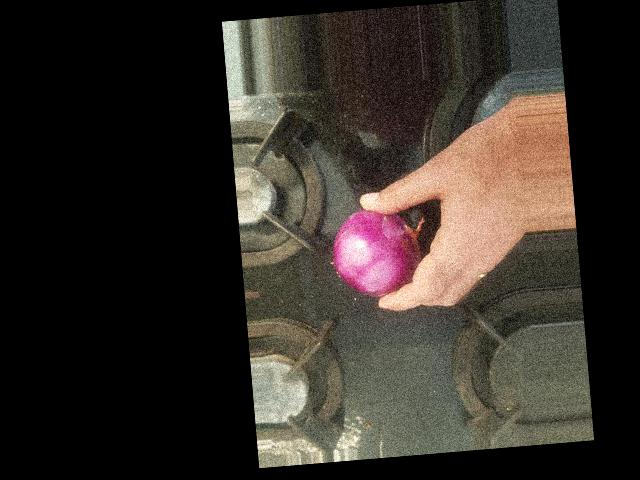onion: (291, 287, 385, 376)
